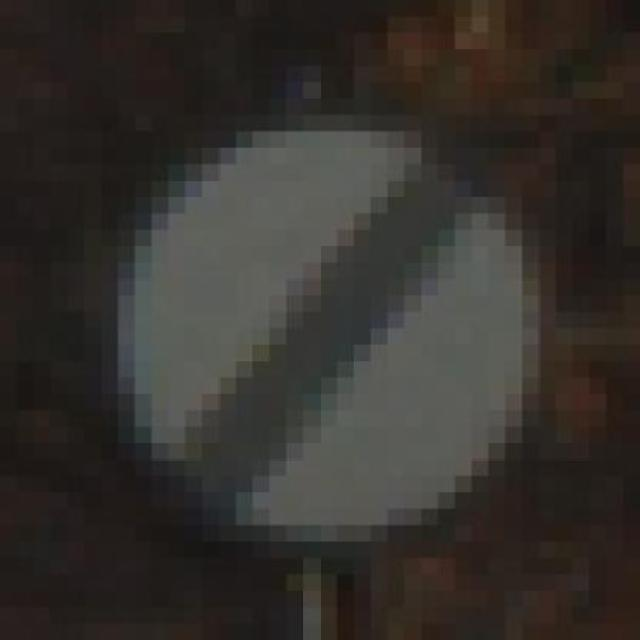End of all speed and passing limits: (84, 98, 573, 574)
